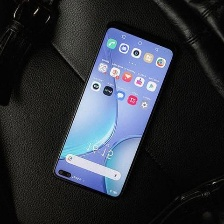phone: (47, 20, 177, 204)
